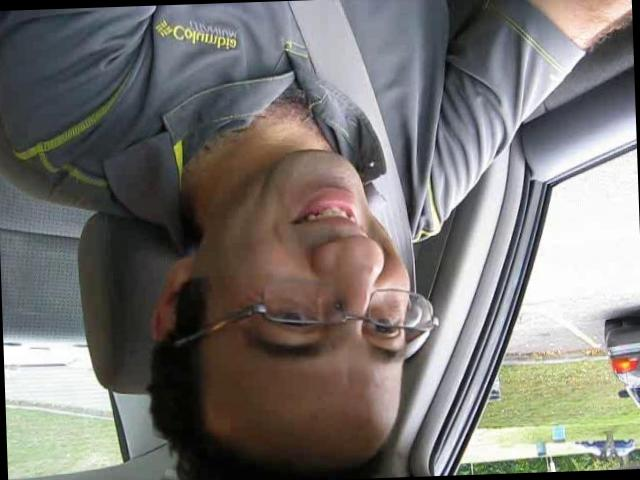eye_open: (263, 306, 330, 337), (366, 308, 408, 344)
face: (224, 145, 423, 394)
